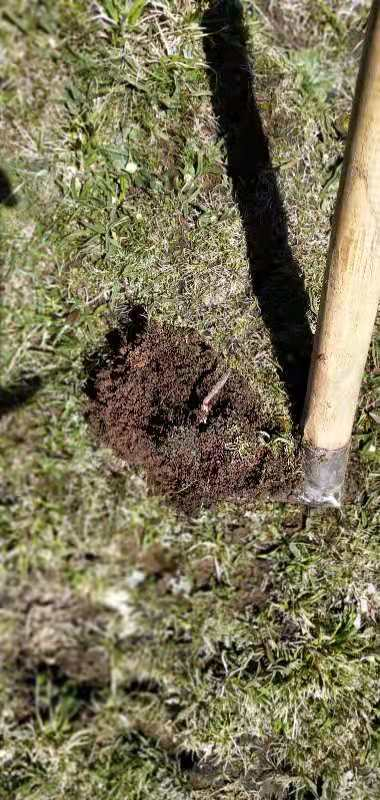w: (201, 372, 232, 416)
